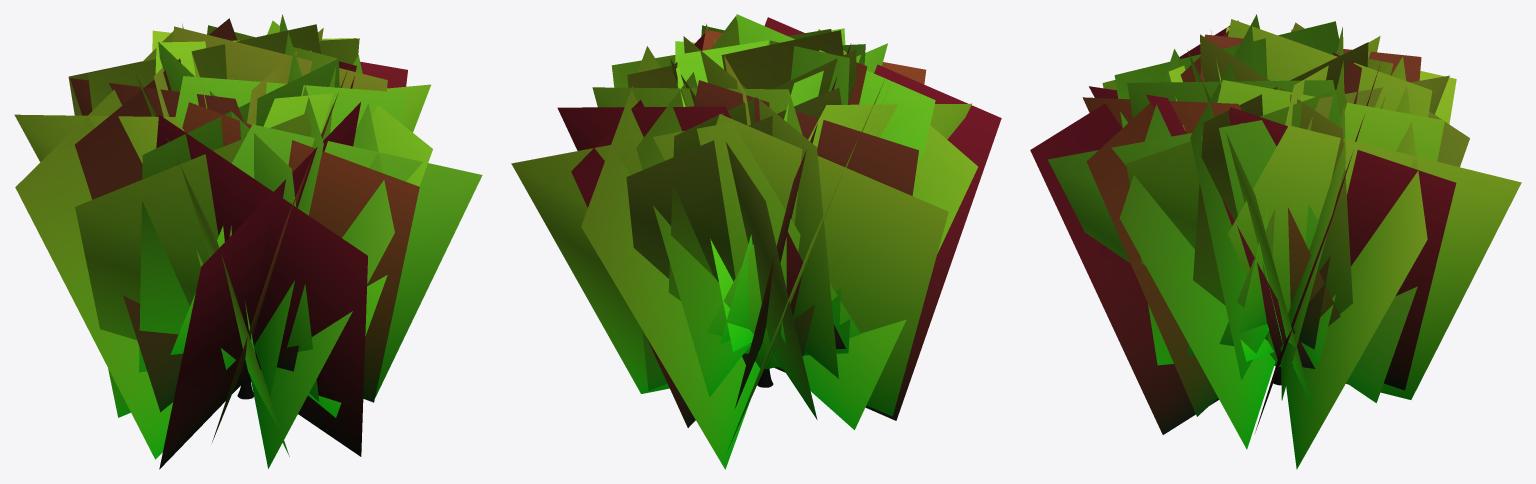
Rendered from Bush_6_1.fbx.
3 views of the same model, side by side, from view 1: azimuth 30°, elevation 25°; view 2: azimuth 150°, elevation 25°; view 3: azimuth 270°, elevation 25° (orthographic). The views are drawn at different scales.
Visible parts, largest first — view 1: _11; view 2: _11; view 3: _11.
Boxes of the visible parts, x1,y1,x2,y2 form: _11: [14, 14, 482, 469]; _11: [511, 14, 1001, 469]; _11: [1030, 14, 1521, 469].
Bounding box in the file's own units: 343 × 312 × 381.
